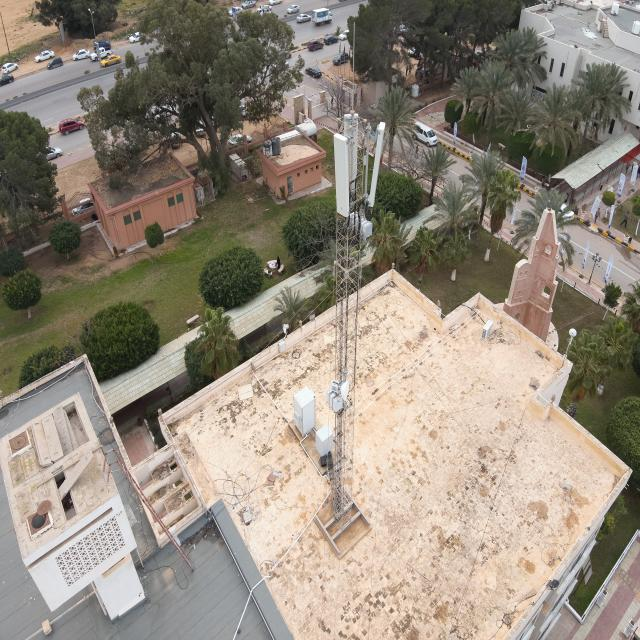antenna: (367, 122, 386, 207), (333, 133, 351, 217), (344, 114, 358, 194)
lighnig-rad: (352, 20, 355, 113)
microware-dish: (331, 378, 350, 402)
power-box: (326, 386, 343, 413)
radio-unit: (349, 210, 372, 238)
